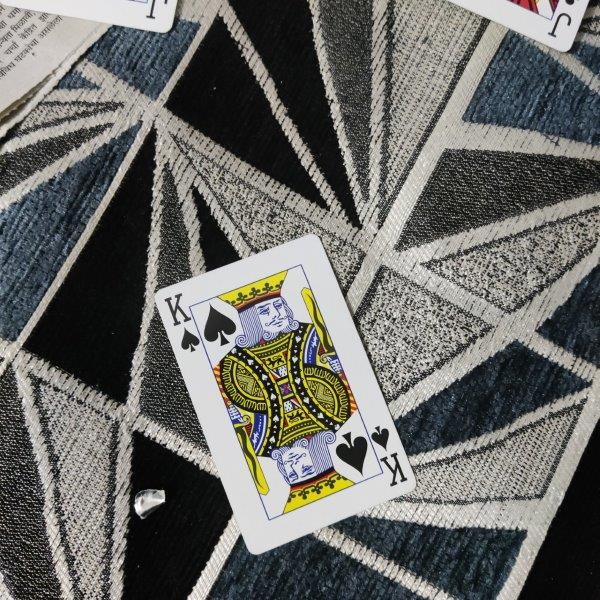King of Spades: (154, 235, 418, 556)
